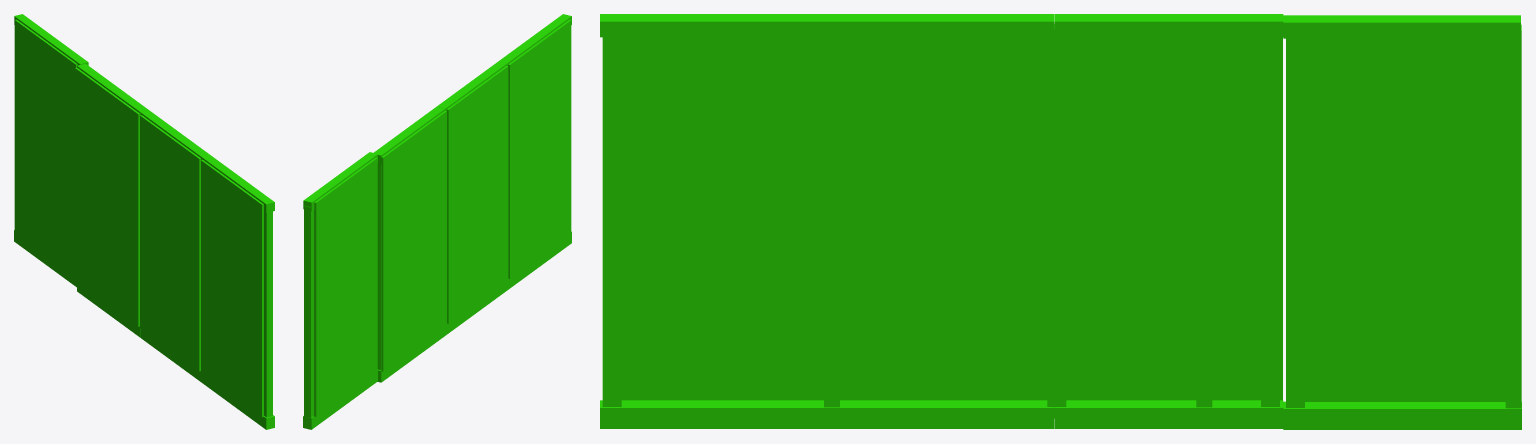
Rendered from HT_02_Wall_03.fbx.
3 renders of one model, left to right at view 1: azimuth 30°, elevation 25°; view 2: azimuth 150°, elevation 25°; view 3: azimuth 270°, elevation 25°, orthographic. The views are drawn at different scales.
Visible parts, largest first — view 1: HT_02_Wall_03; view 2: HT_02_Wall_03; view 3: HT_02_Wall_03.
Boxes of the visible parts, x1=… form: HT_02_Wall_03: x1=14, y1=14, x2=274, y2=429; HT_02_Wall_03: x1=303, y1=14, x2=571, y2=429; HT_02_Wall_03: x1=600, y1=14, x2=1521, y2=429.
Size of the model in its own units: 18.62 by 298 by 610.
